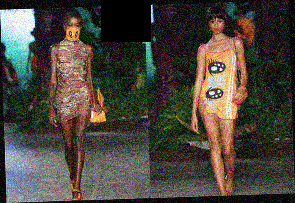with_mask: (64, 22, 82, 39)
without_mask: (209, 17, 226, 35)
